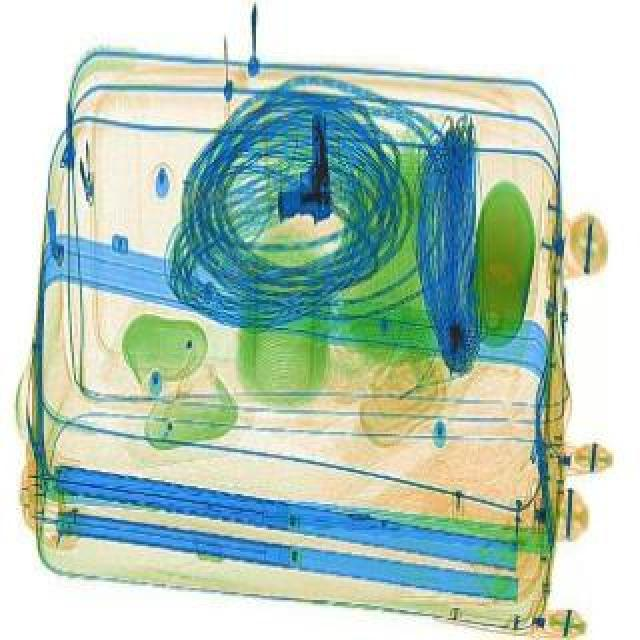gun: (278, 110, 334, 222)
